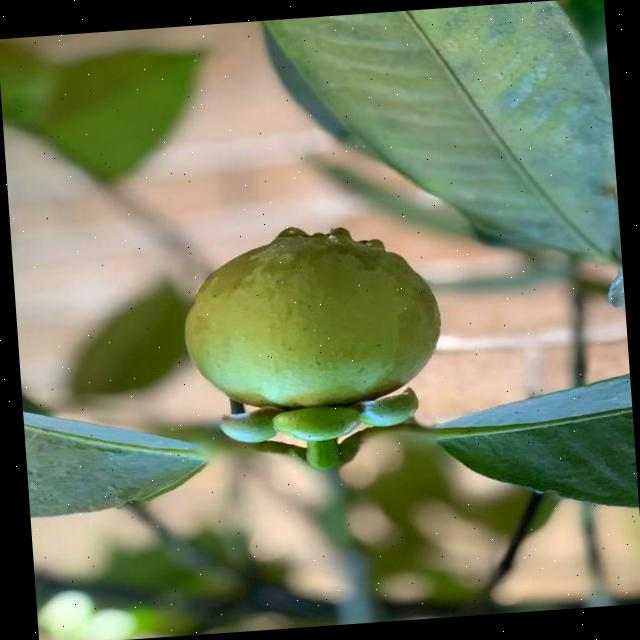mangosteen: (140, 174, 473, 526)
